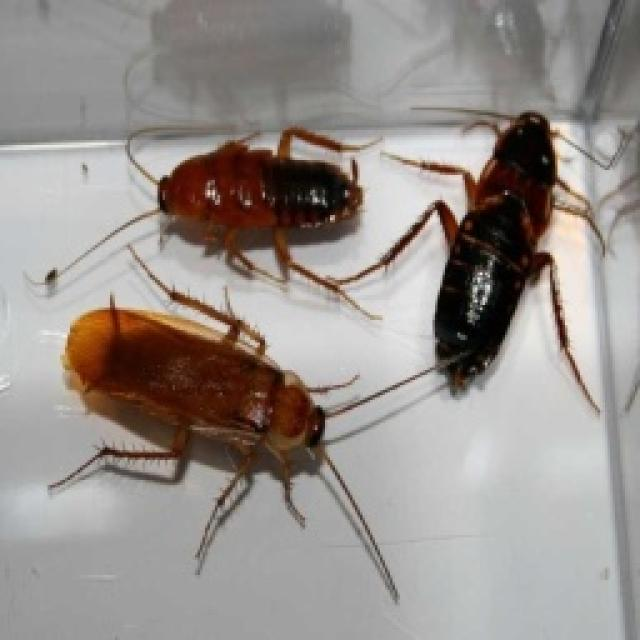cockroach: (54, 266, 334, 500), (410, 78, 599, 420), (126, 126, 389, 266)
